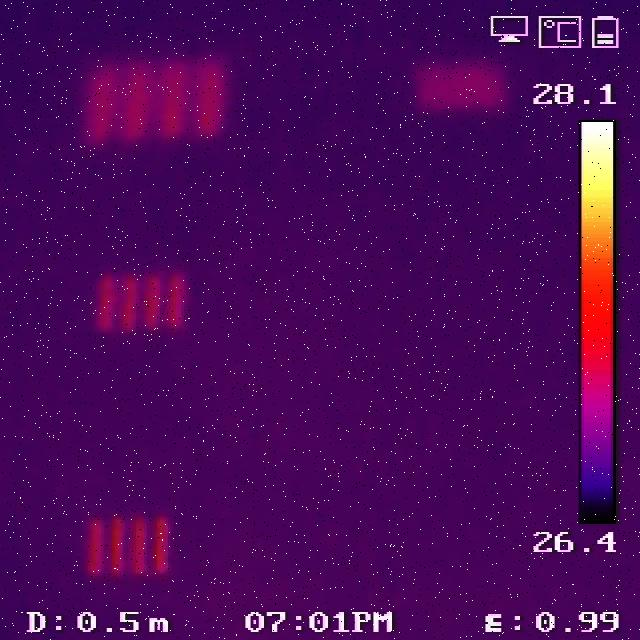Distinguishable 4-bar target: (90, 268, 190, 331), (87, 514, 169, 577)
Indistinguishable 4-bar target: (419, 60, 505, 107)
threshold 4-bar target: (91, 54, 221, 134)
